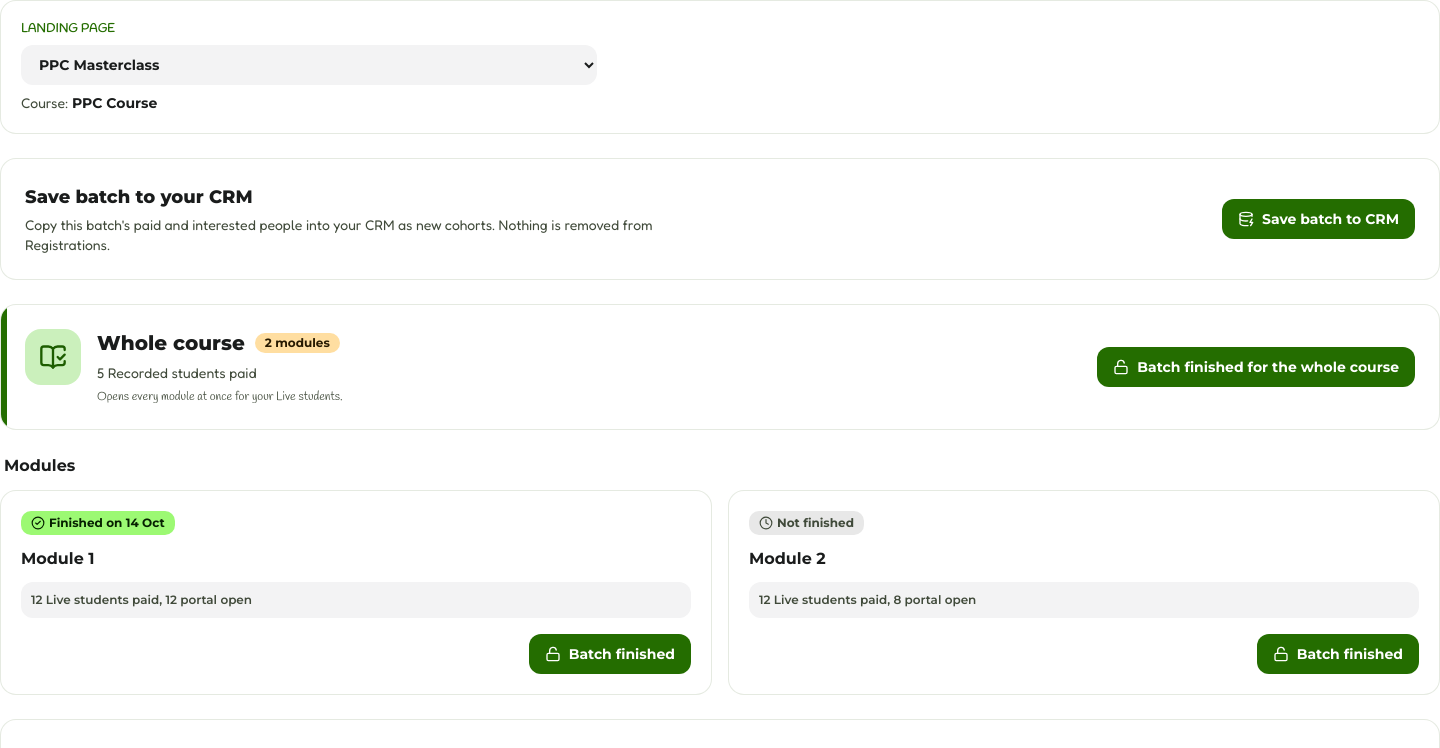
Test: BatchAccessPanel › shows a plain error when the press fails
The width and height of the screenshot is (1440, 748).
Check: the heading "Module 2" is shown, box [749,549,826,568]
Click the 1st button "Batch finished". click: (610, 654)
box: [529,634,691,674]
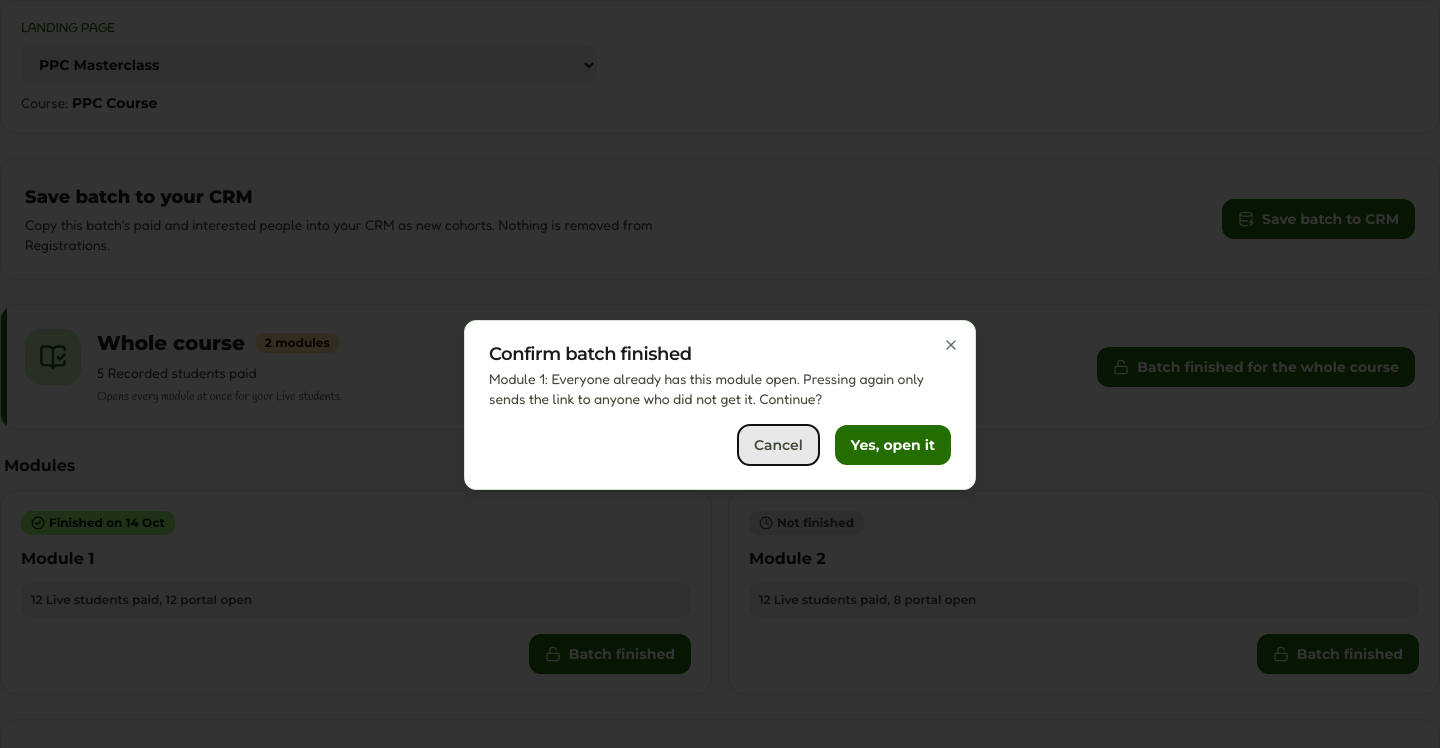
Click the button "Yes, open it". click: (893, 445)
box: [835,425,951,465]
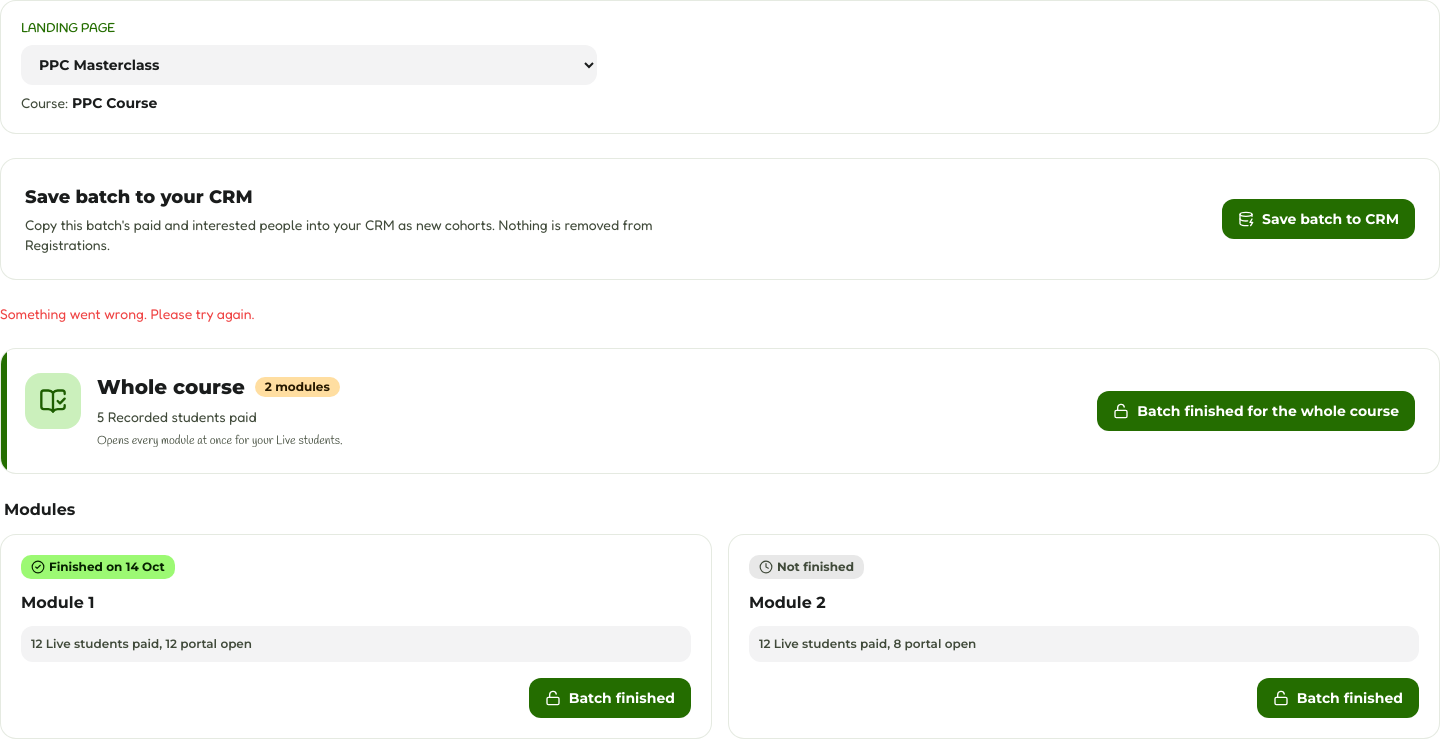
Check: the text "Something went wrong. Please try again." is shown, box [0,305,254,322]
